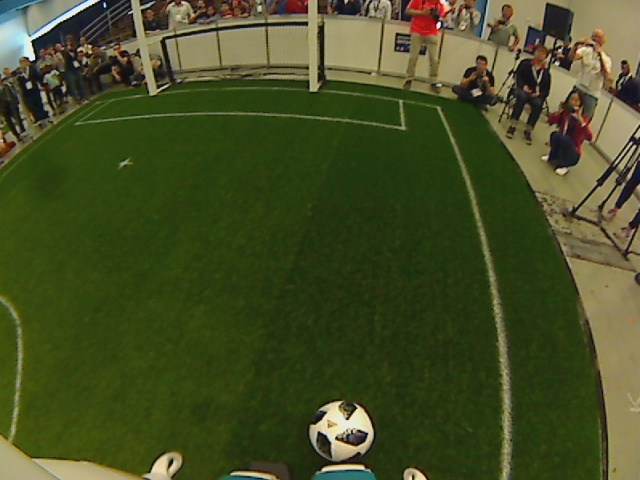ball: (305, 399, 375, 465)
